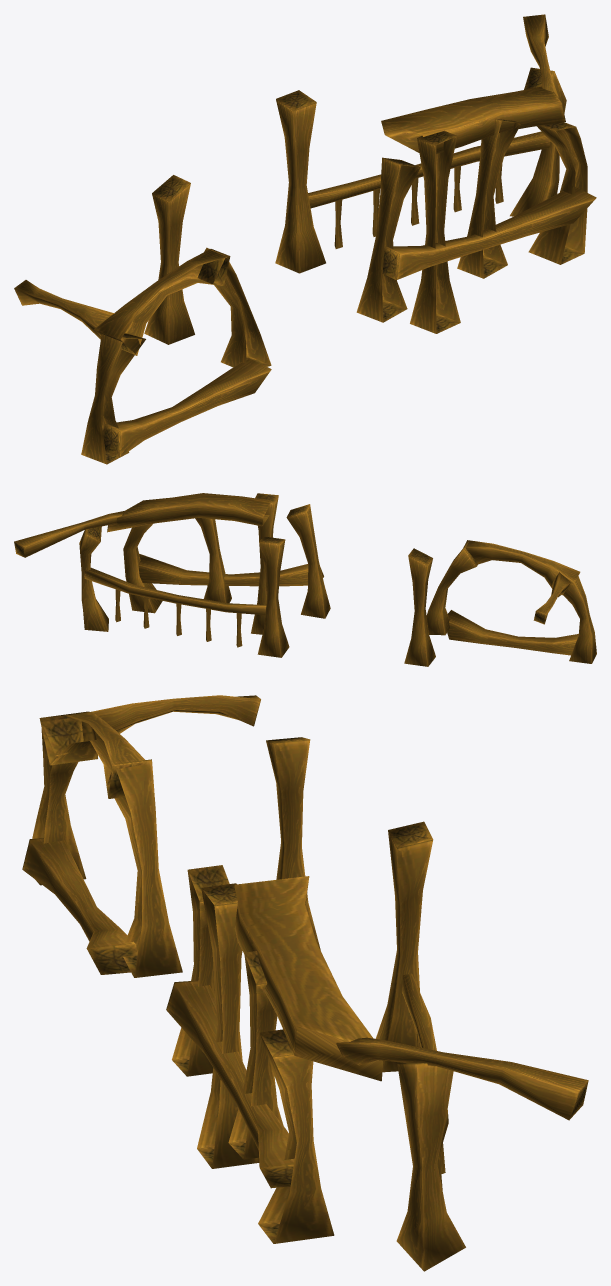
Rendered from HTOWN01_BAGROW1.fbx.
The picture shows the model from 3 angles, top to bottom: view 1: azimuth 30°, elevation 25°; view 2: azimuth 150°, elevation 25°; view 3: azimuth 270°, elevation 25°; orthographic projection. The views are drawn at different scales.
Visible parts, largest first — view 1: HTOWN01_BAGROW1; view 2: HTOWN01_BAGROW1; view 3: HTOWN01_BAGROW1.
Part boxes in pixels (x1,y1,x2,y2): HTOWN01_BAGROW1: (14,14,596,464); HTOWN01_BAGROW1: (14,493,596,666); HTOWN01_BAGROW1: (22,695,588,1271).
Bounding box in the file's own units: 96431 × 27800 × 52280.
Materials: 1 (1 with a texture image).
